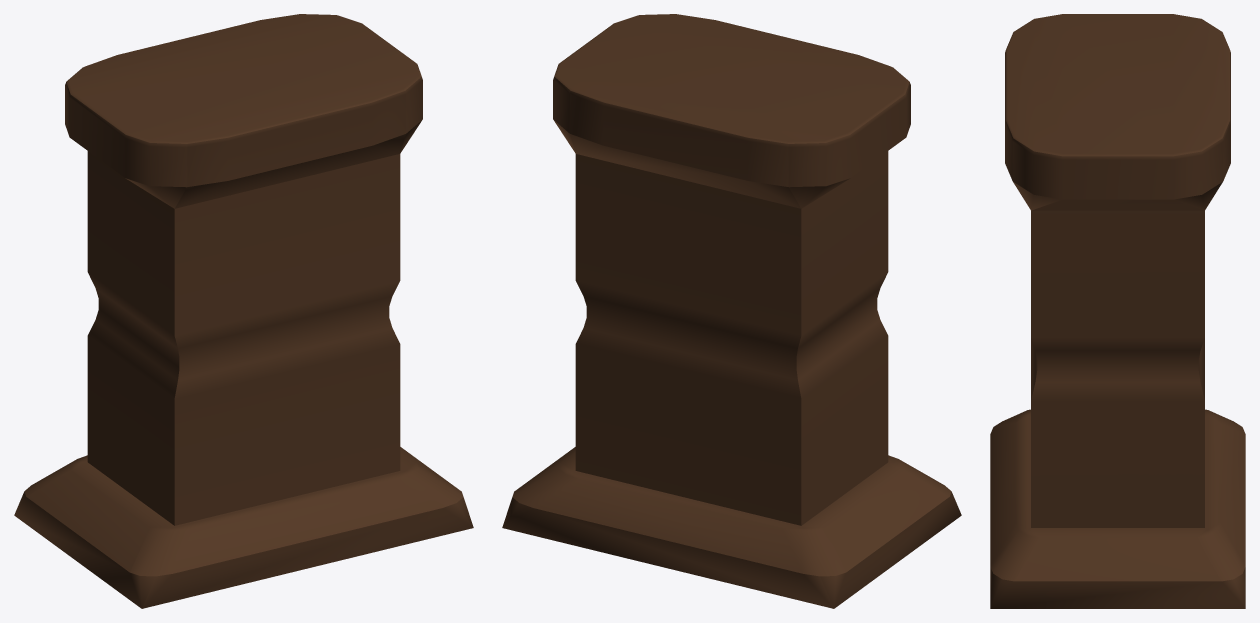
Rendered from clerk-desks.glb.
3 renders of one model, left to right at view 1: azimuth 30°, elevation 25°; view 2: azimuth 150°, elevation 25°; view 3: azimuth 270°, elevation 25°, orthographic.
Visible parts, largest first — view 1: clerk-desks; view 2: clerk-desks; view 3: clerk-desks.
Boxes of the visible parts, x1,y1,x2,y2 form: clerk-desks: (14,14,473,608); clerk-desks: (502,14,961,608); clerk-desks: (990,14,1245,608).
Bounding box in the file's own units: 0.9 × 1.15 × 0.6.
